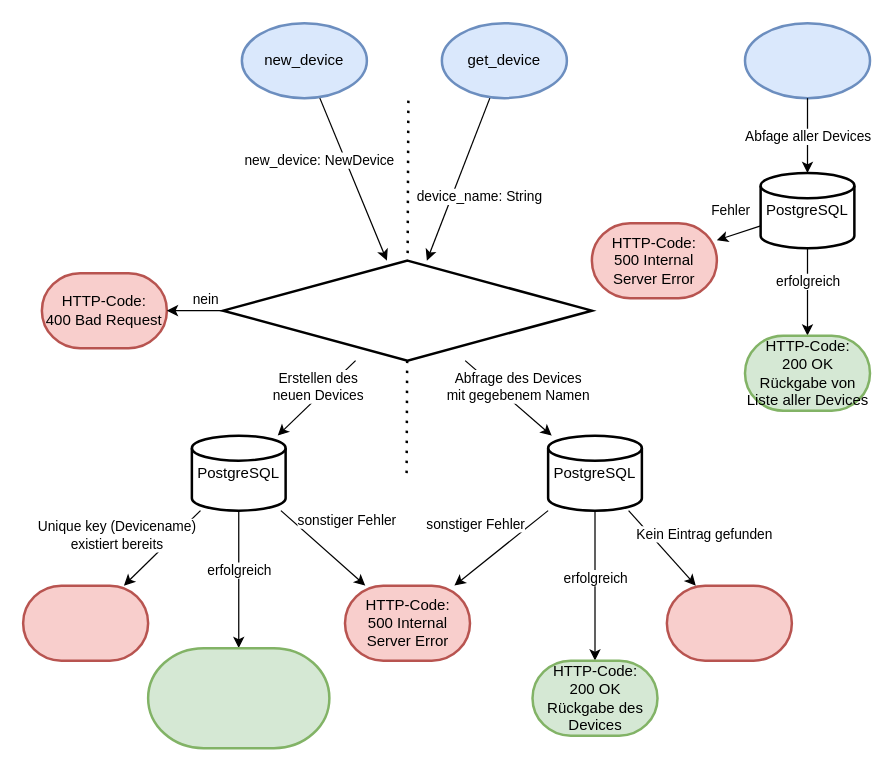
Some shapes in this 893 by 770 pixel diagram are drawn without their labels. Each missing label, with the centre of its shape:
"HTTP-Code: 201 Created Location-Header: {URL des neu erstellten Devices}" goes at point (238, 697).
"HTTP-Code: 404 Not Found" goes at point (728, 622).
"HTTP-Code: 409 Conflict" goes at point (85, 622).
"list_devices" goes at point (807, 60).
"Sind alle JSON- Felder valide?" goes at point (406, 310).
